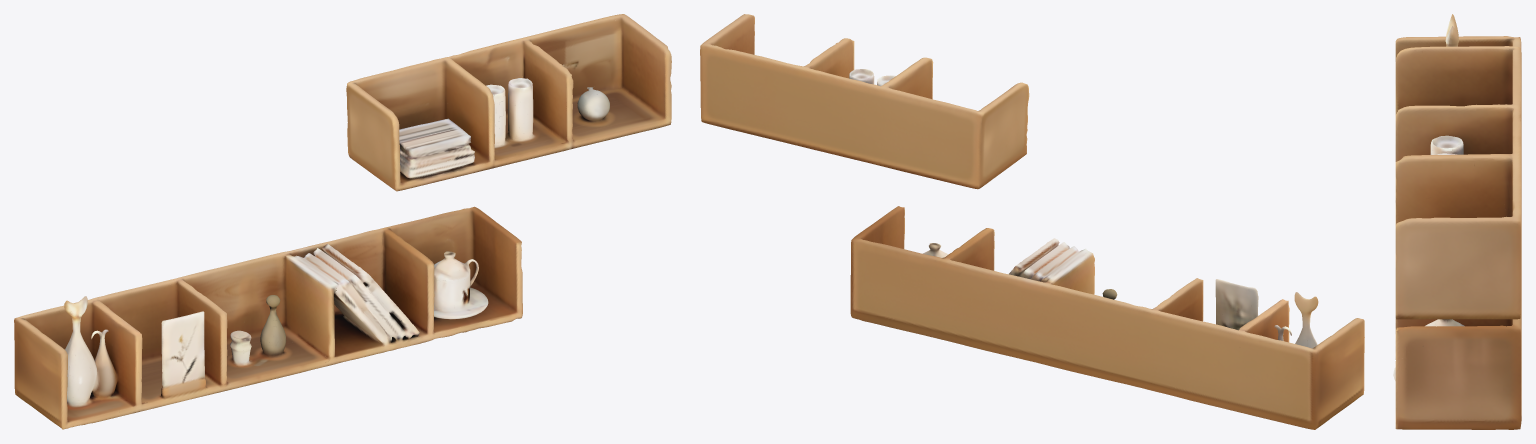
File: 小柜子 (3).fbx
3 renders of one model, left to right at view 1: azimuth 30°, elevation 25°; view 2: azimuth 150°, elevation 25°; view 3: azimuth 270°, elevation 25°, orthographic. The views are drawn at different scales.
Parts seen in each view (by area): view 1: model; view 2: model; view 3: model.
Part boxes in pixels (box(x1,y1,x2,y2)): model: box(14, 14, 671, 429); model: box(700, 14, 1364, 429); model: box(1393, 14, 1521, 429).
Size of the model in its own units: 177 by 65.13 by 24.78.
